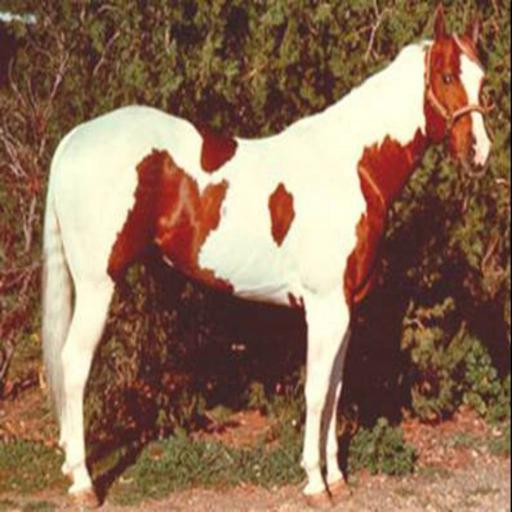horse: (42, 2, 492, 510)
